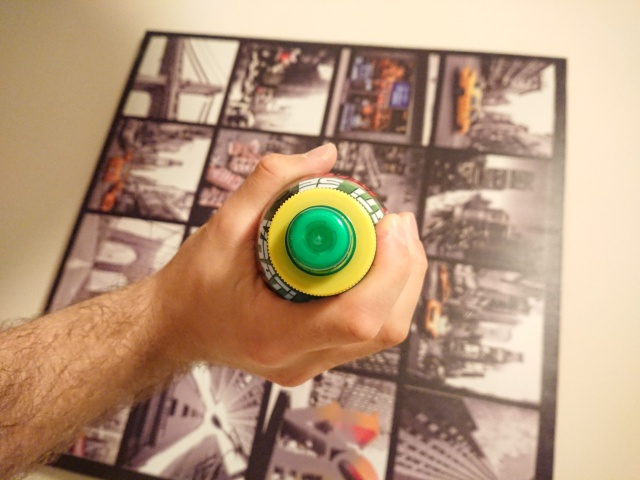Vindi Iso Sport Forest Strawberries 500mL: (252, 169, 397, 315)
